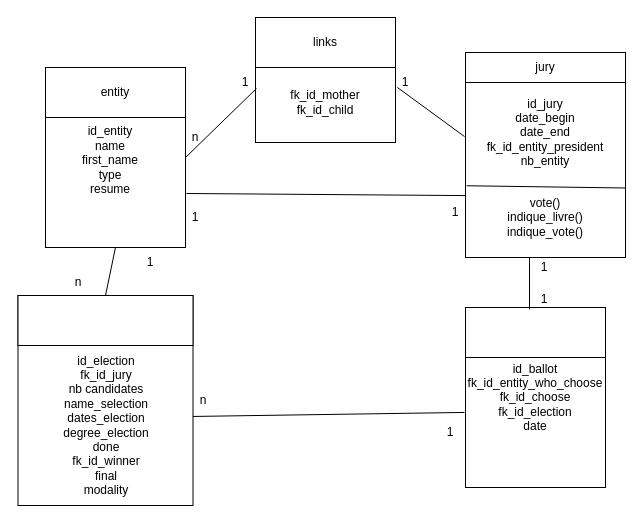
Image size: 644x523. Some labels were removed from this diagram. The shapes that lost their labels are listed below. From the top down, each one's centre as x and y in pixels, then its label:
At [105,320]: "election".
At [535,332]: "ballot".
